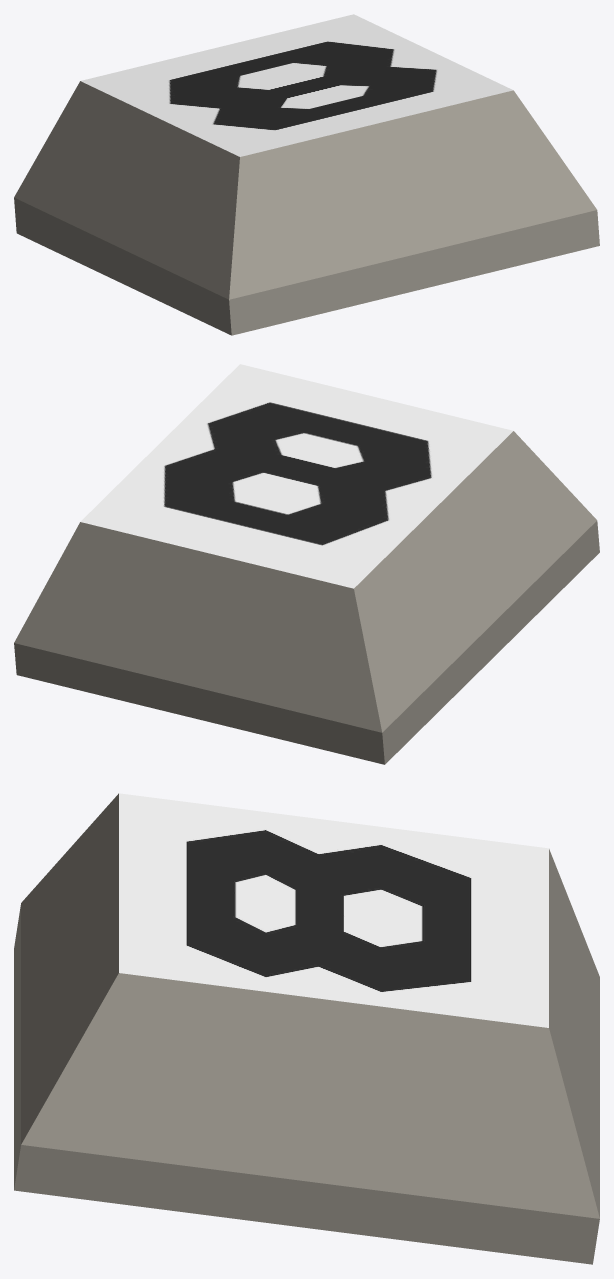
Rendered from key8.glb.
3 renders of one model, top to bottom at view 1: azimuth 30°, elevation 25°; view 2: azimuth 150°, elevation 25°; view 3: azimuth 270°, elevation 25°, orthographic. The views are drawn at different scales.
Visible parts, largest first — view 1: Cube.012; view 2: Cube.012; view 3: Cube.012.
Part boxes in pixels (bbox=[...]): Cube.012: bbox=[14, 14, 599, 335]; Cube.012: bbox=[14, 364, 599, 764]; Cube.012: bbox=[14, 793, 599, 1264].
Bounding box in the file's own units: 0.1926 × 0.0968 × 0.1972.
Materials: 2 (1 with a texture image).
